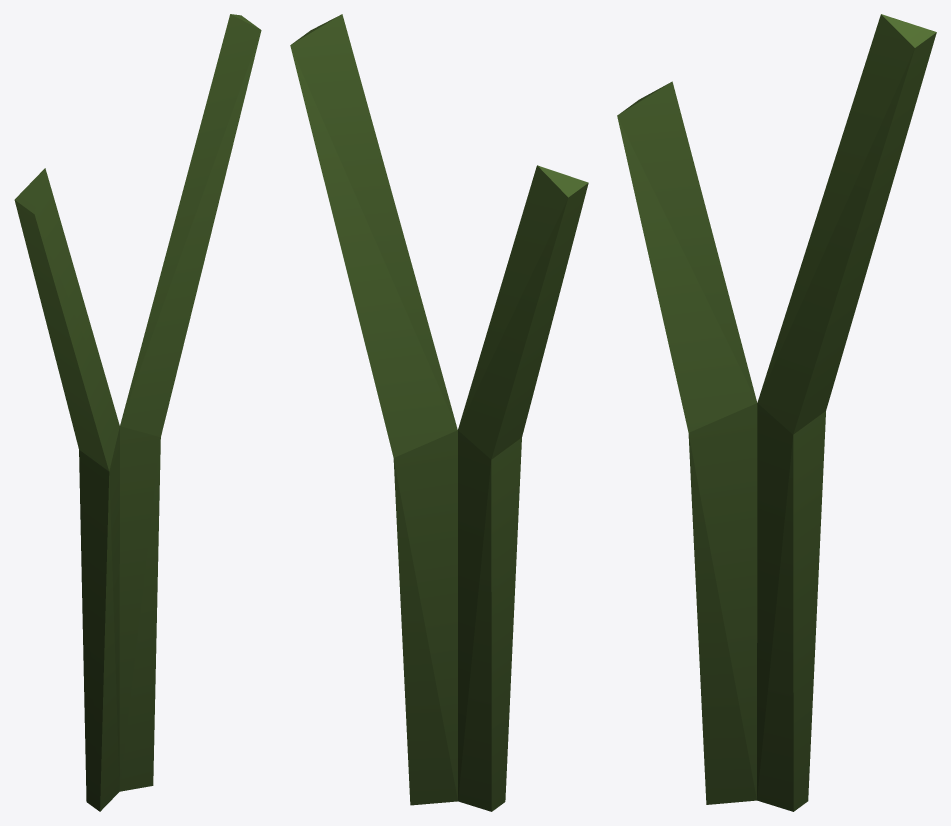
File: Crop_Garlic_STAGE_1_01.obj
3 renders of one model, left to right at view 1: azimuth 30°, elevation 25°; view 2: azimuth 150°, elevation 25°; view 3: azimuth 330°, elevation 25°, orthographic. The views are drawn at different scales.
Visible parts, largest first — view 1: Crop_Garlic_STAGE_1_01; view 2: Crop_Garlic_STAGE_1_01; view 3: Crop_Garlic_STAGE_1_01.
Part boxes in pixels (x1,y1,x2,y2): Crop_Garlic_STAGE_1_01: (14, 14, 261, 811); Crop_Garlic_STAGE_1_01: (290, 14, 588, 811); Crop_Garlic_STAGE_1_01: (617, 14, 936, 811).
Size of the model in its own units: 0.0431 by 0.1236 by 0.0157.
1 material, 1 textured.
